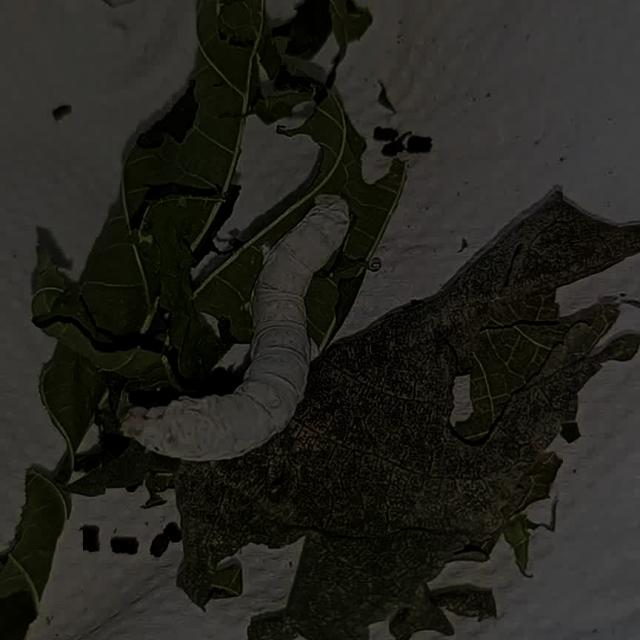Healthy: (73, 184, 363, 489)
